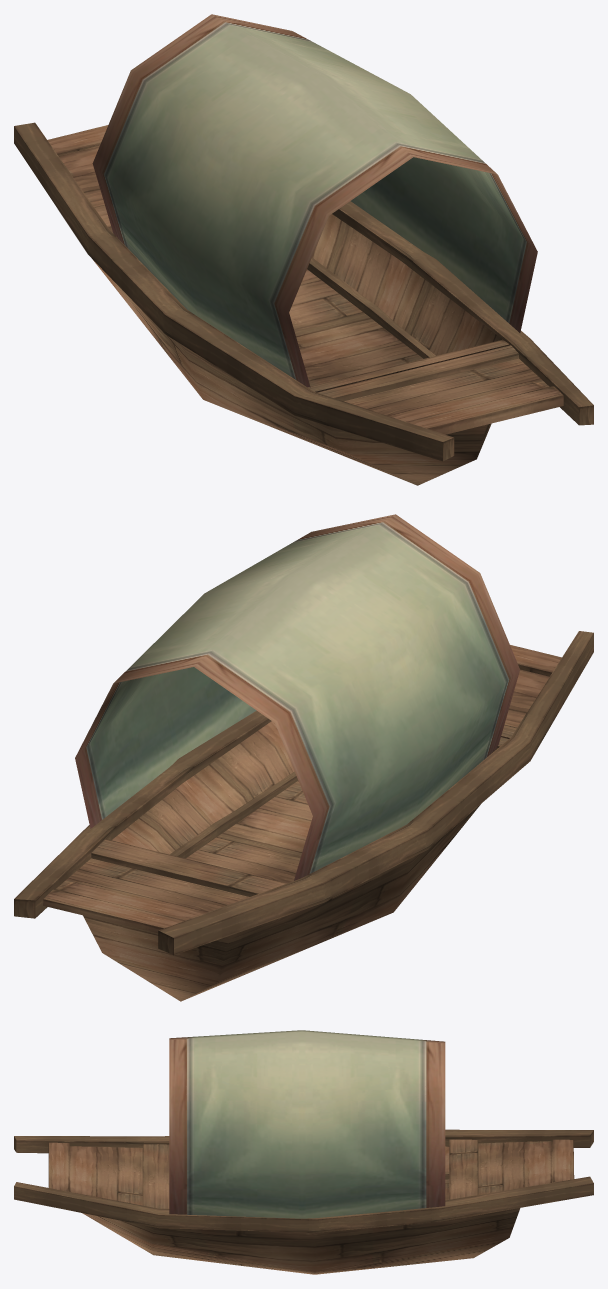
File: szc_object_05a_xiaochuan.FBX
The picture shows the model from 3 angles, top to bottom: view 1: azimuth 30°, elevation 25°; view 2: azimuth 150°, elevation 25°; view 3: azimuth 270°, elevation 25°; orthographic projection. The views are drawn at different scales.
Parts seen in each view (by area): view 1: szc_05a_xiaochuan; view 2: szc_05a_xiaochuan; view 3: szc_05a_xiaochuan.
Part boxes in pixels (x1,y1,x2,y2): szc_05a_xiaochuan: (14,14,593,485); szc_05a_xiaochuan: (14,514,593,1001); szc_05a_xiaochuan: (14,1030,593,1274).
Size of the model in its own units: 240 by 294 by 631.
